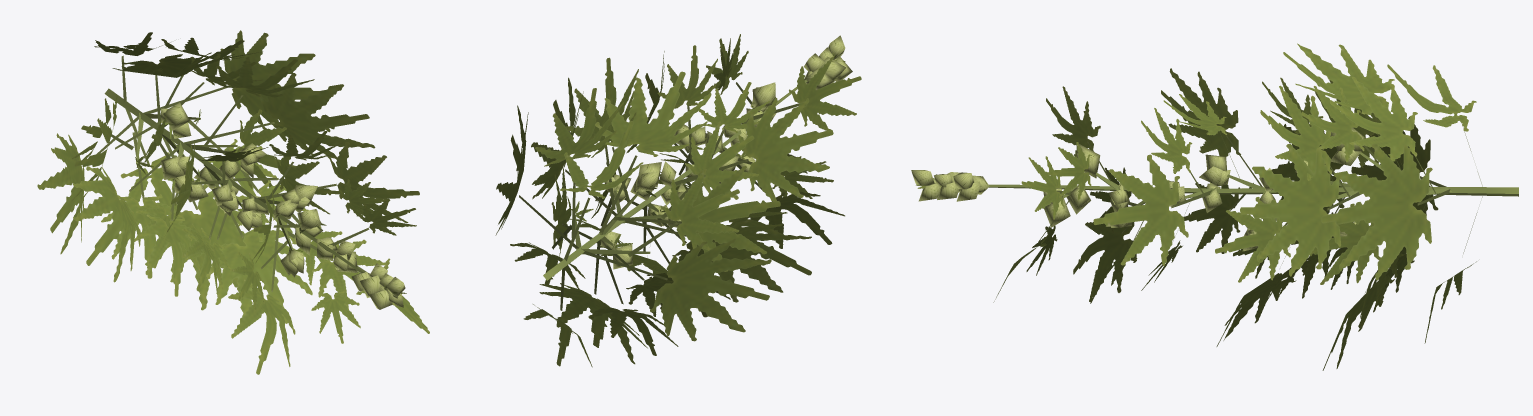
Rendered from p_male_landrace_flowering_c1_cards.obj.
3 views of the same model, side by side, from view 1: azimuth 30°, elevation 25°; view 2: azimuth 150°, elevation 25°; view 3: azimuth 270°, elevation 25° (orthographic). The views are drawn at different scales.
Size of the model in its own units: 1.56 by 1.39 by 2.28.
1 material, 1 textured.
